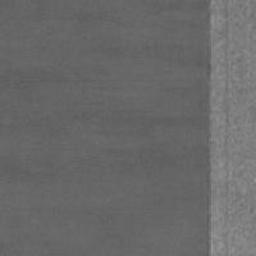Welding line: (204, 0, 212, 256)
